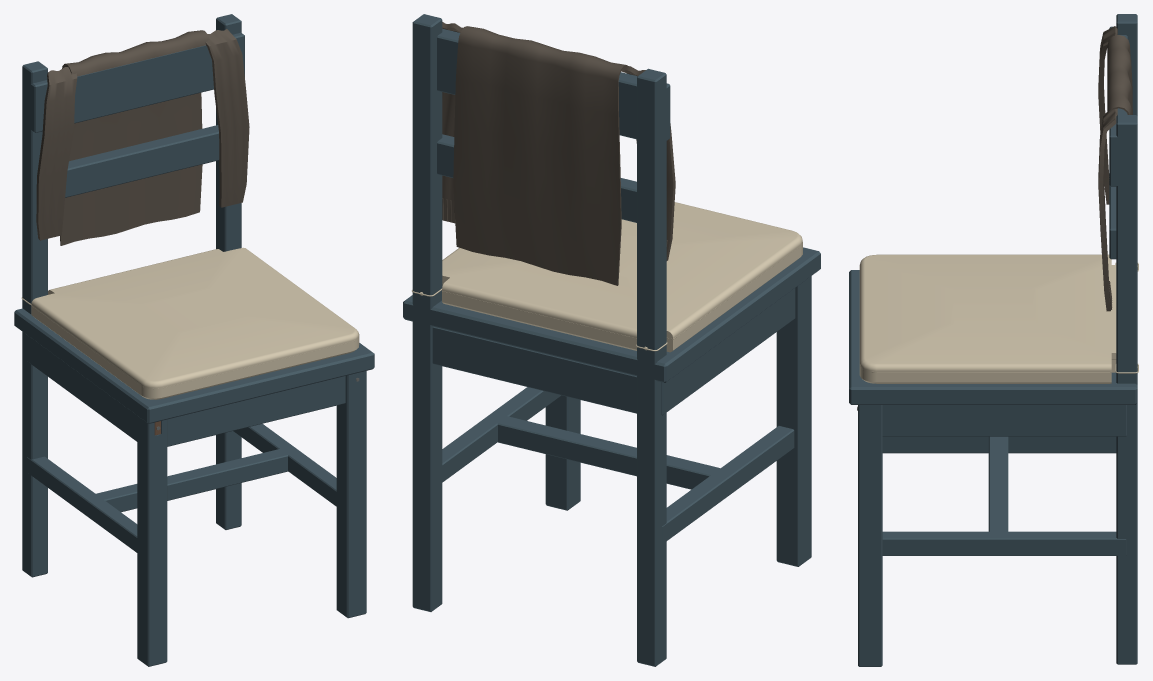
The model's file is kitchen-chair-blue-50f0e096e96e.glb.
The picture shows the model from 3 angles, left to right: view 1: azimuth 30°, elevation 25°; view 2: azimuth 150°, elevation 25°; view 3: azimuth 270°, elevation 25°; orthographic projection. The views are drawn at different scales.
Visible parts, largest first — view 1: enamel-blue, paper, fabric; view 2: enamel-blue, fabric, paper; view 3: enamel-blue, paper, fabric.
Boxes of the visible parts, left/top/right/bottom form: enamel-blue: left=14, top=14, right=374, bottom=666; paper: left=21, top=247, right=359, bottom=399; fabric: left=36, top=29, right=249, bottom=245; enamel-blue: left=403, top=14, right=820, bottom=666; fabric: left=442, top=22, right=675, bottom=285; paper: left=412, top=202, right=802, bottom=352; enamel-blue: left=849, top=14, right=1137, bottom=666; paper: left=859, top=254, right=1138, bottom=383; fabric: left=1098, top=26, right=1132, bottom=311.
Size of the model in its own units: 0.4 by 0.85 by 0.4118.
